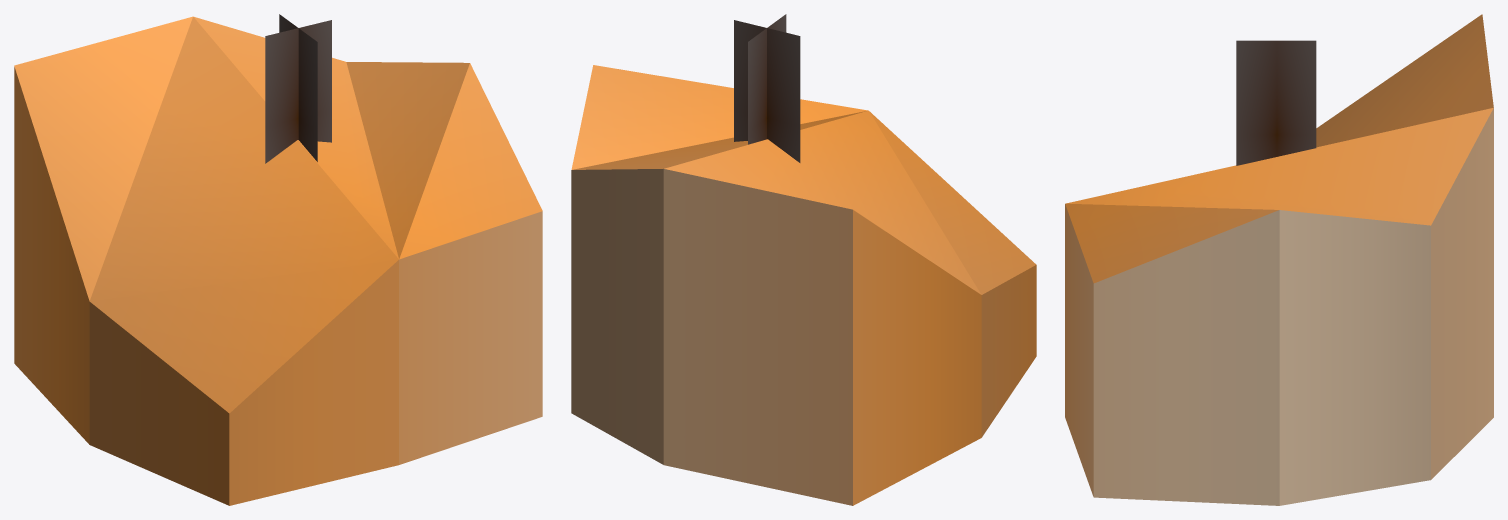
File: spent_light_997x00.obj
The picture shows the model from 3 angles, left to right: view 1: azimuth 30°, elevation 25°; view 2: azimuth 150°, elevation 25°; view 3: azimuth 270°, elevation 25°; orthographic projection. The views are drawn at different scales.
Parts seen in each view (by area): view 1: spent_light_997x00; view 2: spent_light_997x00; view 3: spent_light_997x00.
Part boxes in pixels (box(x1,y1,x2,y2)): spent_light_997x00: box(14, 14, 542, 505); spent_light_997x00: box(571, 14, 1036, 505); spent_light_997x00: box(1065, 14, 1493, 505).
Size of the model in its own units: 0.2407 by 0.2164 by 0.2228.
